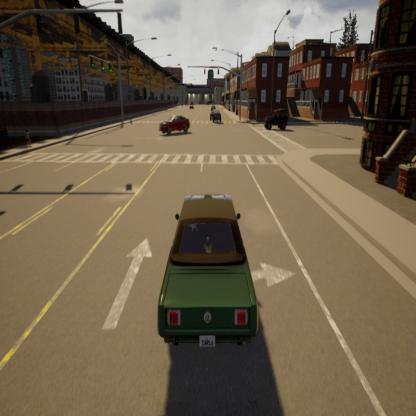Cars: (147, 174, 277, 362), (154, 102, 193, 144), (258, 102, 294, 136), (210, 108, 224, 133), (207, 98, 218, 114), (188, 98, 198, 113)
